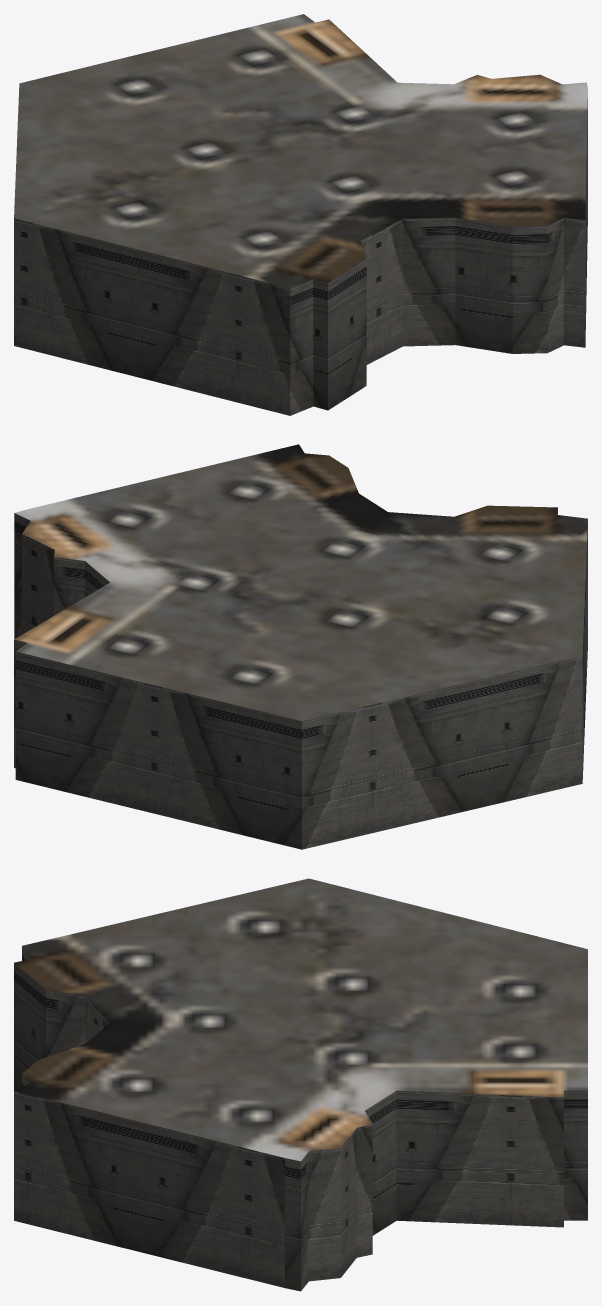
Rendered from fortress_medium_a_53.glb.
The picture shows the model from 3 angles, top to bottom: view 1: azimuth 30°, elevation 25°; view 2: azimuth 150°, elevation 25°; view 3: azimuth 270°, elevation 25°; orthographic projection.
Visible parts, largest first — view 1: buildings/saxarba/fortress_medium/fortress_medium_a_53; view 2: buildings/saxarba/fortress_medium/fortress_medium_a_53; view 3: buildings/saxarba/fortress_medium/fortress_medium_a_53.
Part boxes in pixels (x1=…): buildings/saxarba/fortress_medium/fortress_medium_a_53: x1=14, y1=14, x2=587, y2=415; buildings/saxarba/fortress_medium/fortress_medium_a_53: x1=14, y1=444, x2=587, y2=849; buildings/saxarba/fortress_medium/fortress_medium_a_53: x1=14, y1=878, x2=587, y2=1291.
Size of the model in its own units: 84 by 18 by 72.
